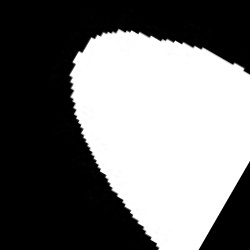spot: (70, 31, 248, 248)
